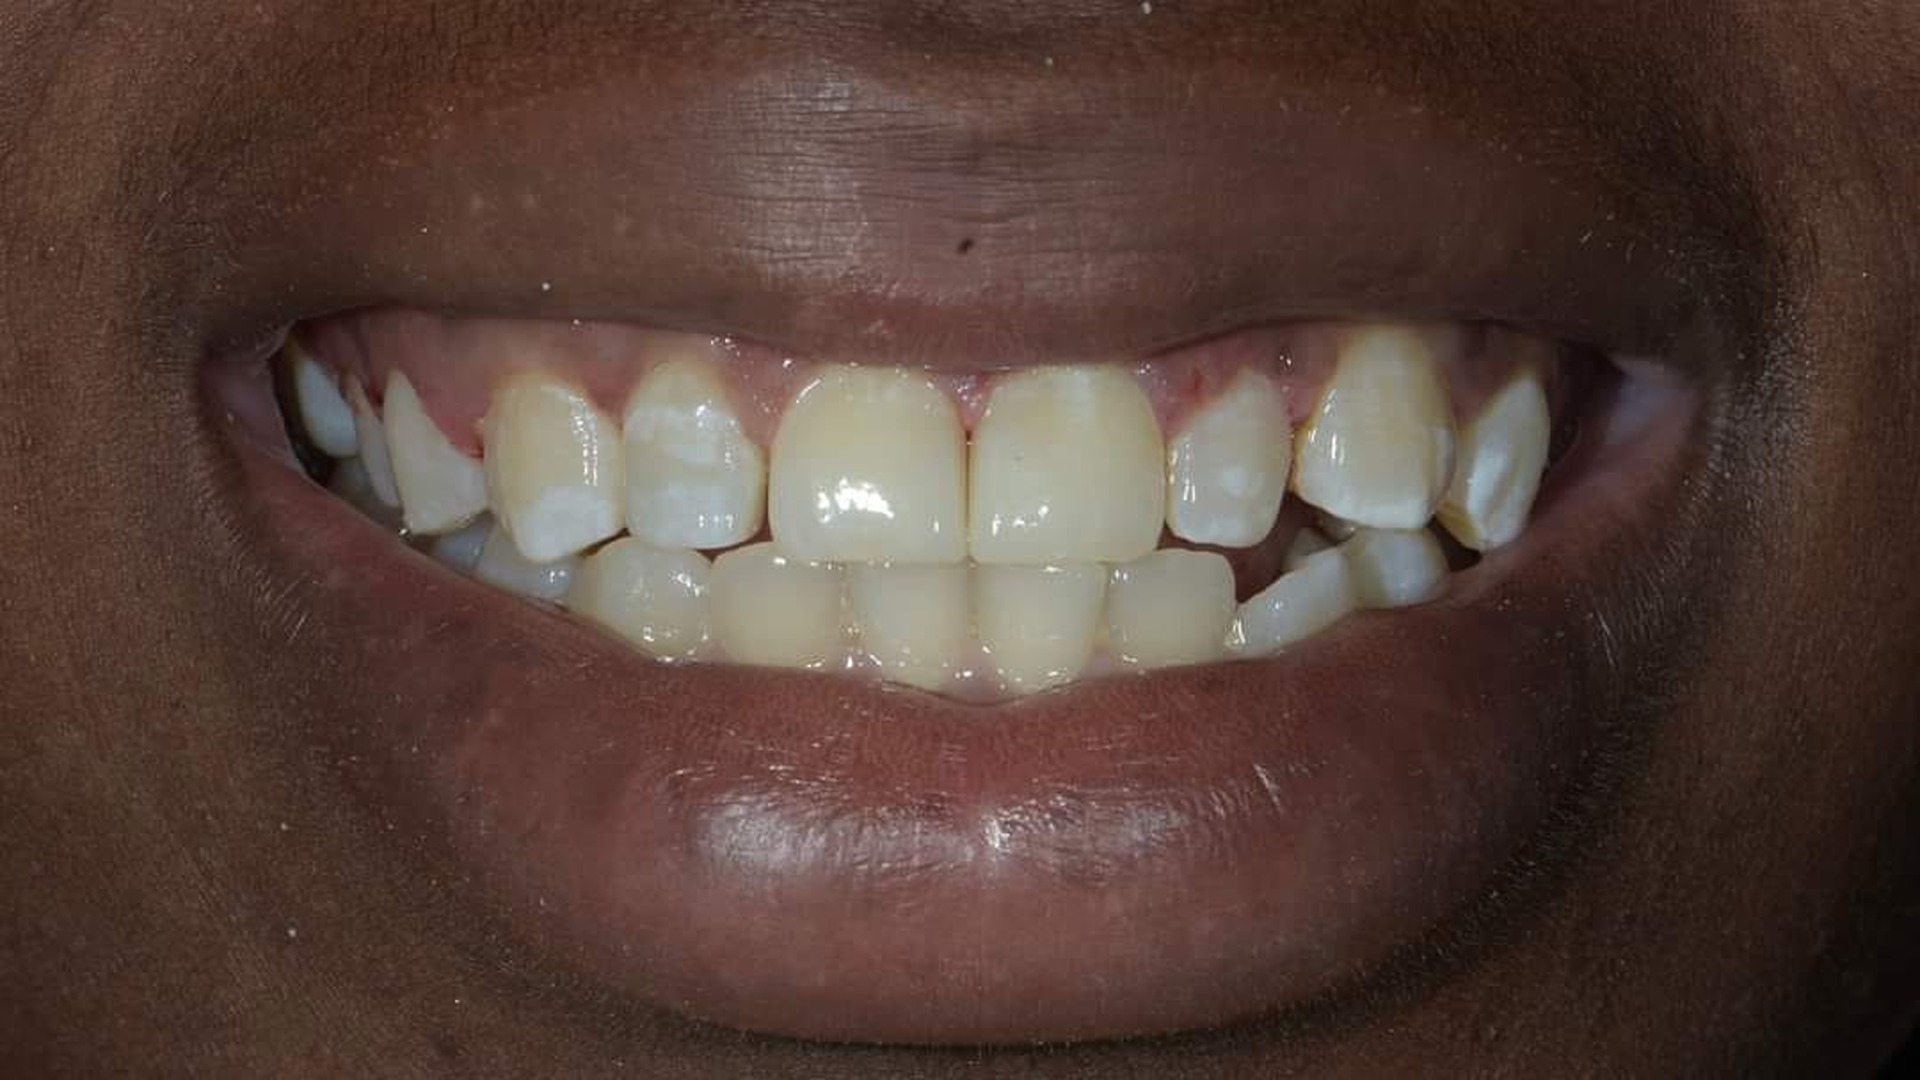tooth: (767, 367, 967, 564), (967, 367, 1164, 564), (1292, 331, 1455, 527), (624, 360, 767, 549), (484, 373, 626, 562), (1164, 367, 1292, 547), (1436, 376, 1549, 550), (963, 563, 1106, 696), (560, 537, 711, 658), (384, 368, 487, 535), (708, 543, 843, 669), (1096, 550, 1237, 669), (847, 562, 969, 691)
